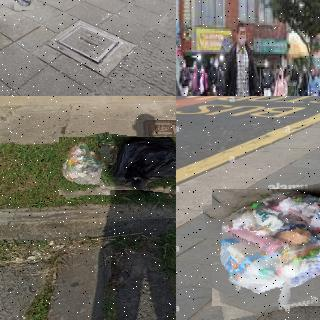Garbage: (207, 181, 320, 313), (101, 135, 176, 191), (56, 135, 118, 197), (13, 0, 34, 10)
